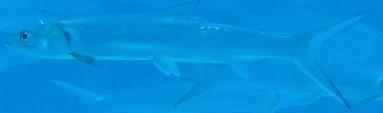Tenpounder: (0, 0, 370, 113)
